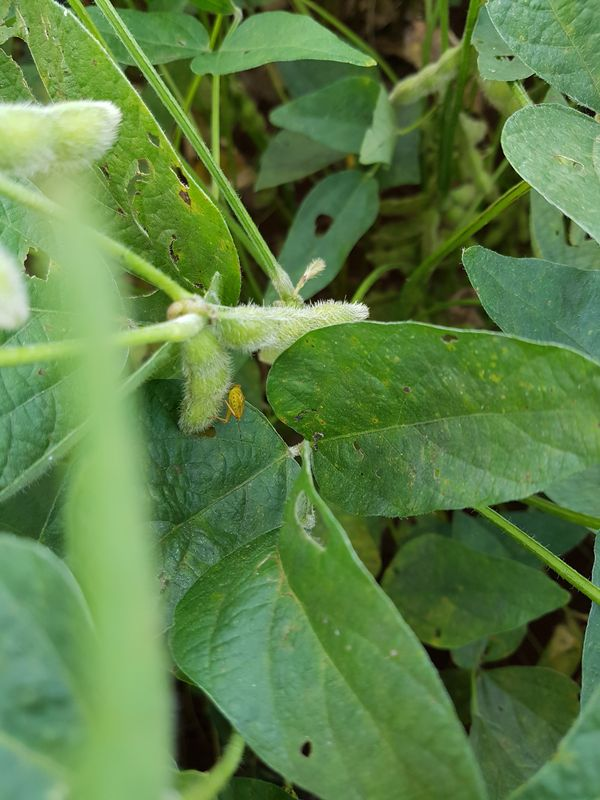Euschistus_heros_ninfa: (209, 376, 254, 427)
